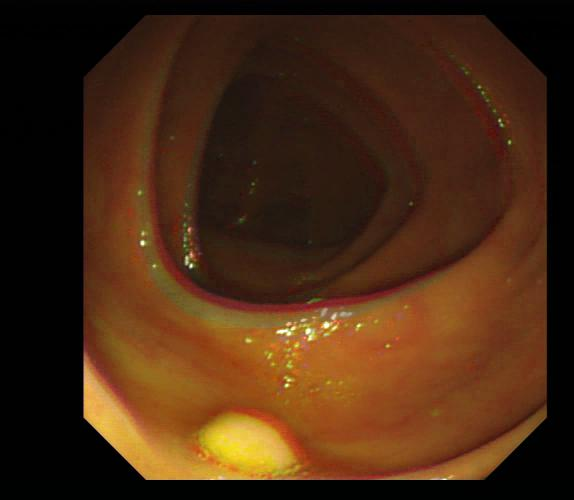polyp: (200, 406, 305, 480)
